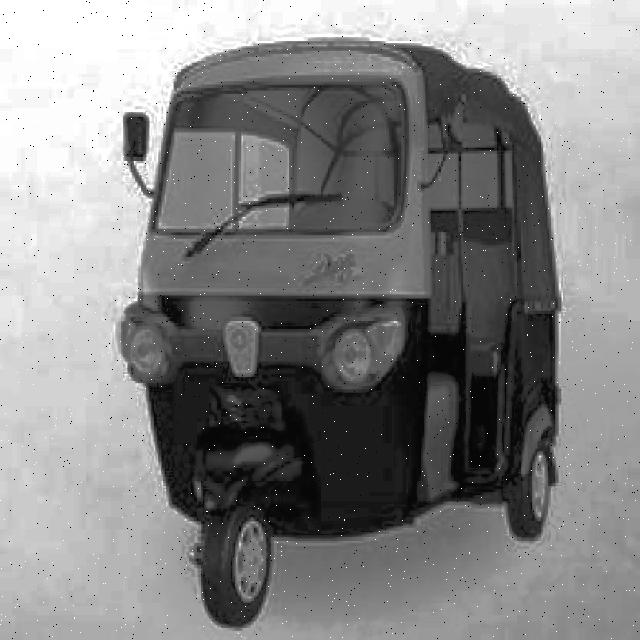Auto-Rickshaw: (108, 31, 563, 636)
